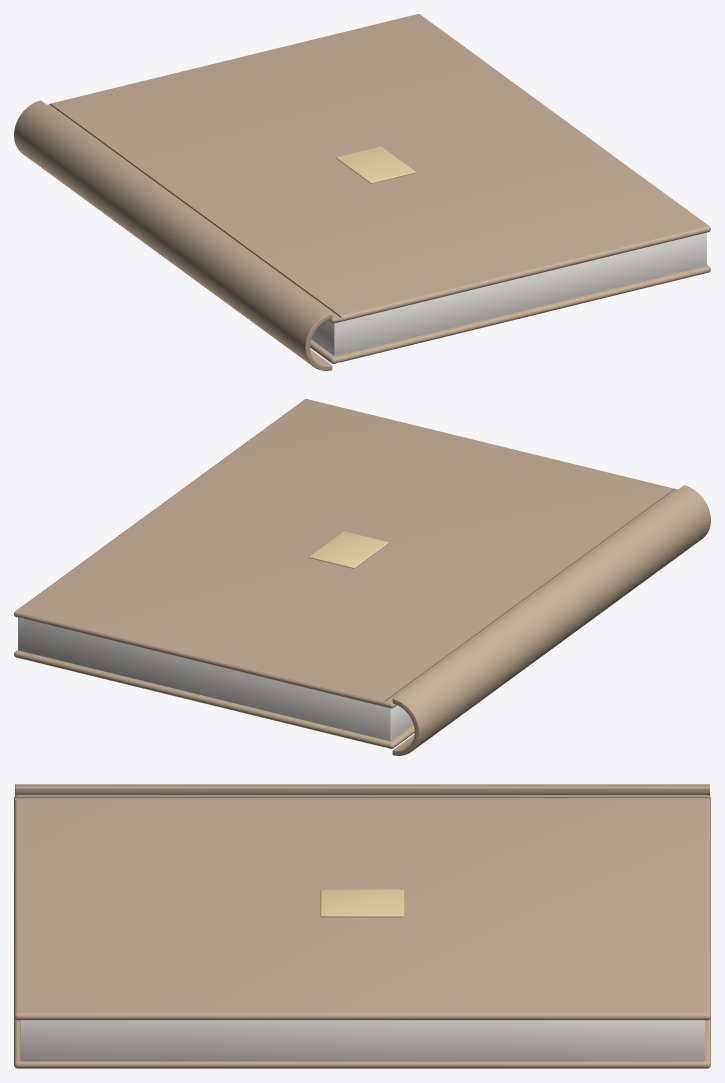
Rendered from plate--portrait.glb.
The picture shows the model from 3 angles, top to bottom: view 1: azimuth 30°, elevation 25°; view 2: azimuth 150°, elevation 25°; view 3: azimuth 270°, elevation 25°; orthographic projection. The views are drawn at different scales.
Parts seen in each view (by area): view 1: CoverFront, Spine, Pages, CoverBack, Plate; view 2: CoverFront, Spine, Pages, CoverBack, Plate; view 3: CoverFront, Pages, Spine, CoverBack, Plate.
Boxes of the visible parts, x1,y1,x2,y2 form: CoverFront: [47, 14, 710, 323]; Spine: [14, 100, 332, 370]; Pages: [311, 232, 706, 356]; CoverBack: [310, 265, 710, 363]; Plate: [336, 146, 415, 183]; CoverFront: [14, 399, 677, 708]; Spine: [392, 485, 710, 755]; Pages: [18, 617, 413, 741]; CoverBack: [14, 650, 414, 748]; Plate: [309, 531, 388, 568]; CoverFront: [14, 795, 710, 1020]; Pages: [20, 1020, 704, 1061]; Spine: [15, 784, 709, 795]; CoverBack: [14, 1018, 710, 1068]; Plate: [320, 889, 404, 917].
Bounding box in the file's own units: 0.3208 × 0.043 × 0.4.
